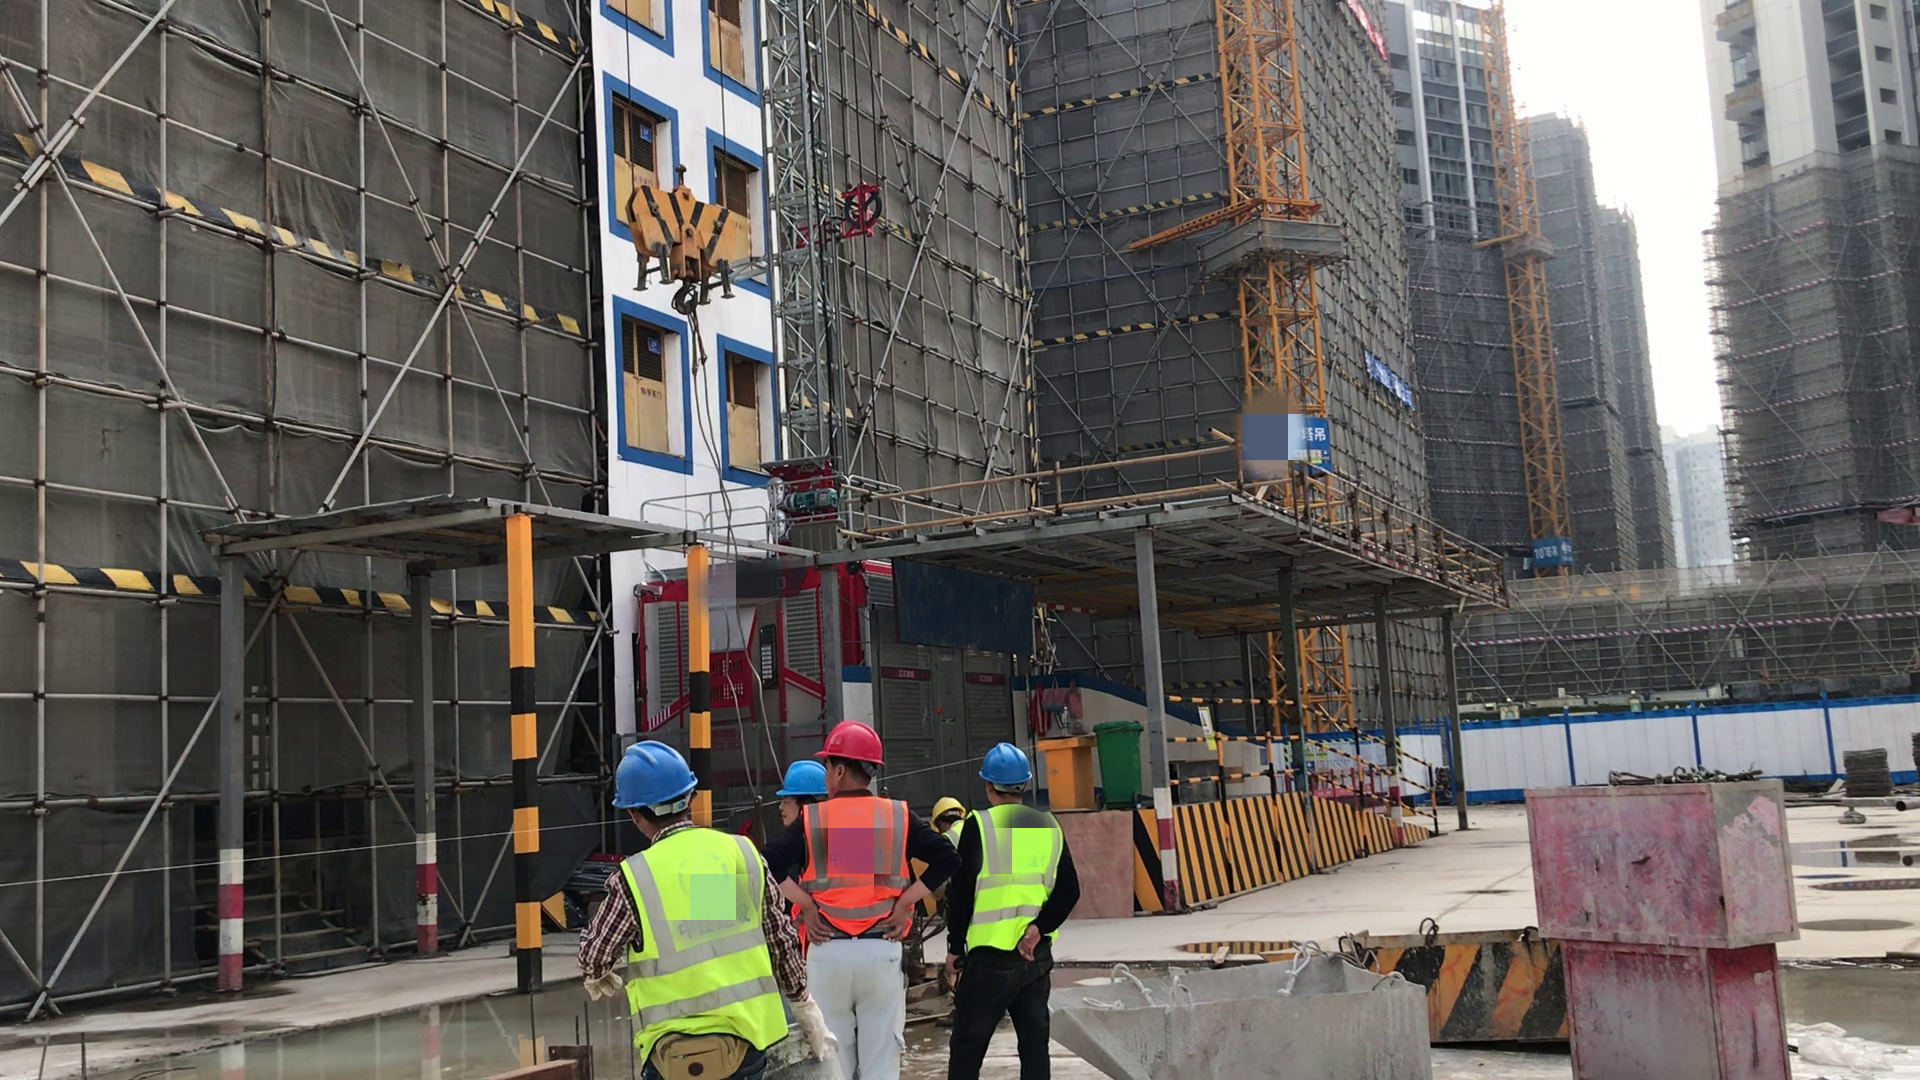helmet: (608, 741, 706, 813), (815, 719, 889, 775), (977, 740, 1032, 804), (782, 759, 833, 804), (922, 786, 963, 830)
person: (576, 732, 779, 1080), (794, 720, 951, 1080), (961, 741, 1083, 1080), (768, 766, 828, 871)
vest: (612, 829, 790, 1066), (797, 794, 921, 949), (955, 805, 1071, 968)
